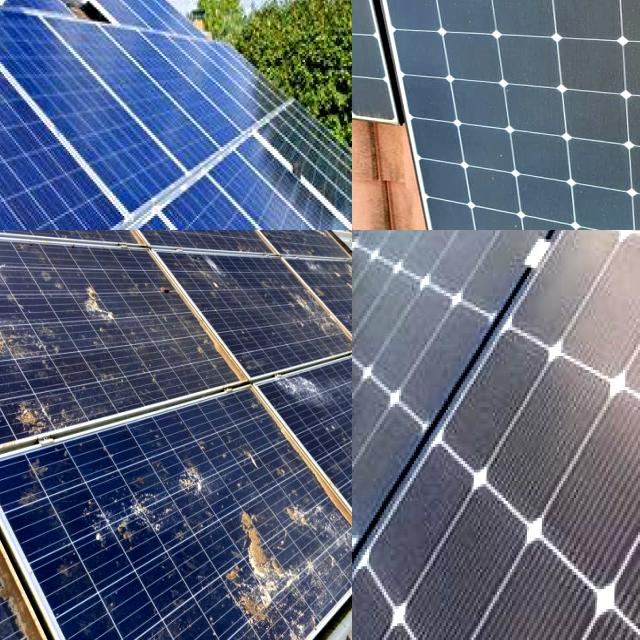bird: (226, 512, 293, 640), (75, 236, 129, 343), (184, 242, 241, 310), (2, 387, 74, 430), (272, 367, 331, 413), (0, 577, 41, 640), (0, 312, 35, 379), (0, 352, 23, 425), (176, 446, 198, 518), (0, 230, 35, 265), (158, 266, 169, 320), (140, 618, 156, 640)
crack: (352, 230, 640, 640), (0, 0, 196, 230), (0, 0, 160, 230), (48, 6, 222, 190), (86, 0, 254, 170), (199, 135, 352, 230)
dust: (387, 0, 555, 114), (452, 146, 593, 230), (352, 0, 599, 35)
